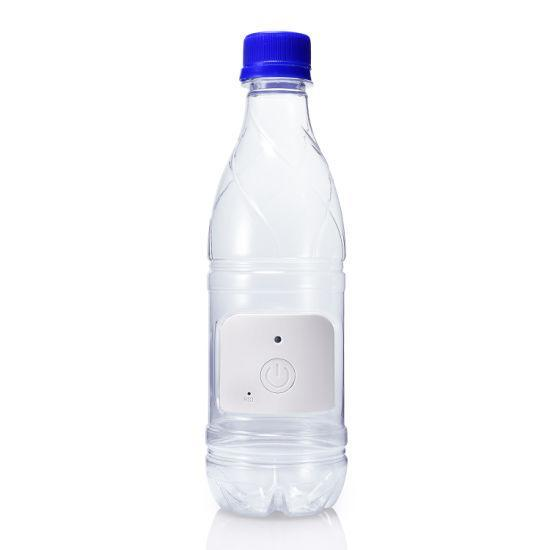bottle: (200, 28, 352, 522)
